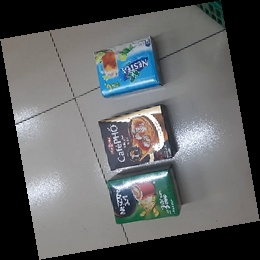CF pho: (98, 105, 177, 172)
Nes Rang: (105, 166, 182, 224)
Nestea: (95, 36, 165, 99)
